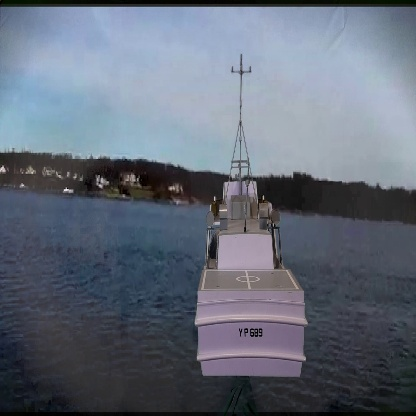YP689: (191, 58, 306, 378)
